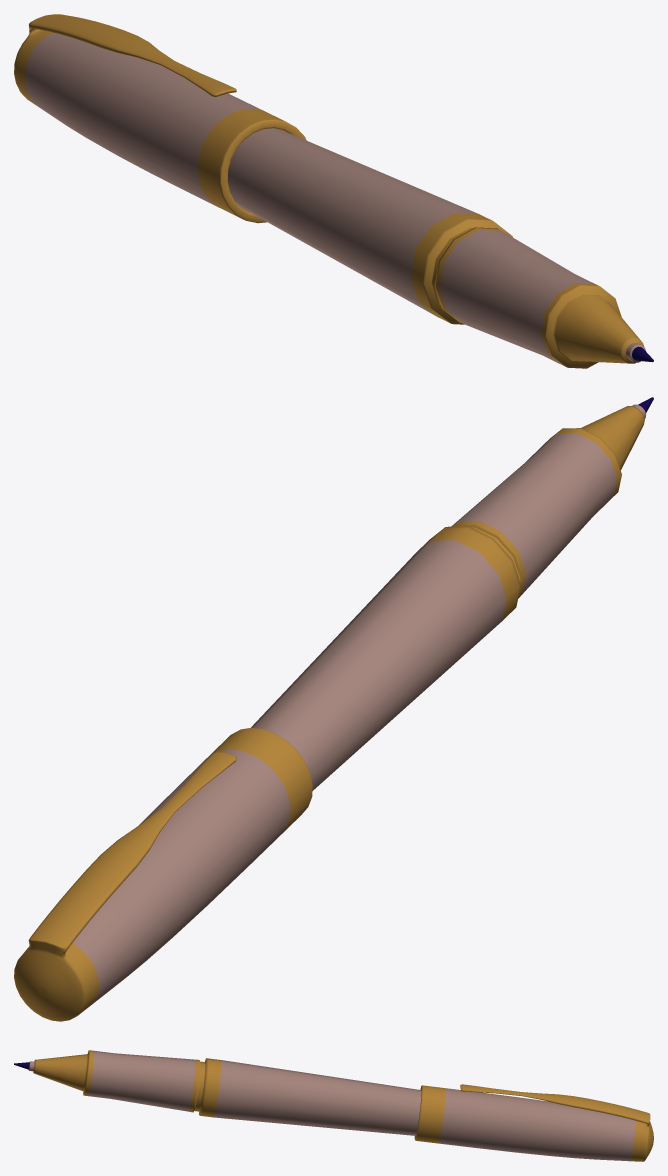
Rendered from crayon_t.fbx.
3 renders of one model, top to bottom at view 1: azimuth 30°, elevation 25°; view 2: azimuth 150°, elevation 25°; view 3: azimuth 270°, elevation 25°, orthographic. The views are drawn at different scales.
Visible parts, largest first — view 1: pen_base_Cylinder; view 2: pen_base_Cylinder; view 3: pen_base_Cylinder.
Part boxes in pixels (x1=…): pen_base_Cylinder: x1=14, y1=14, x2=653, y2=368; pen_base_Cylinder: x1=14, y1=397, x2=653, y2=1021; pen_base_Cylinder: x1=14, y1=1050, x2=653, y2=1161.
Size of the model in its own units: 2.59 by 5.28 by 28.45.
